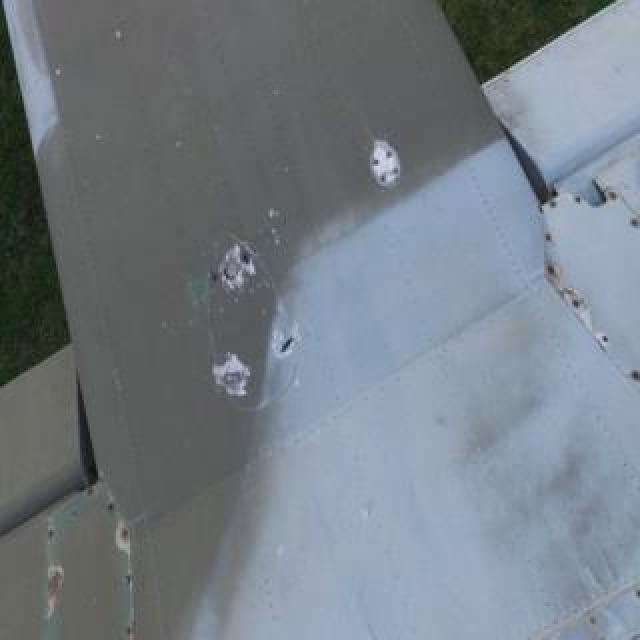crack: (369, 138, 405, 194), (222, 244, 256, 290), (215, 356, 251, 396), (44, 567, 68, 619), (275, 332, 301, 358), (569, 292, 591, 322), (116, 518, 132, 554), (546, 260, 562, 284), (47, 519, 57, 545), (599, 332, 611, 348), (630, 369, 640, 385)
